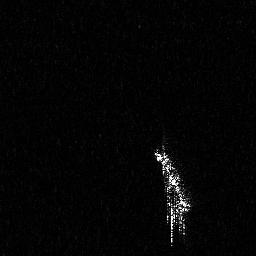ship: (150, 134, 195, 248)
